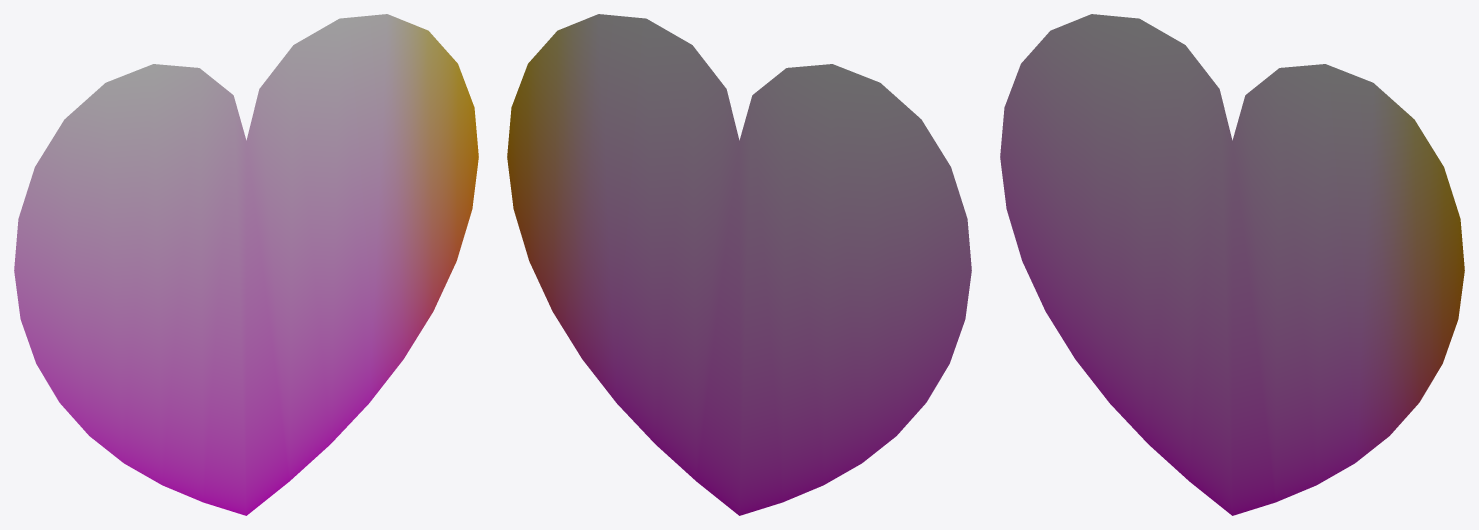
File: Heart.fbx
3 views of the same model, side by side, from view 1: azimuth 30°, elevation 25°; view 2: azimuth 150°, elevation 25°; view 3: azimuth 330°, elevation 25° (orthographic).
Parts seen in each view (by area): view 1: Heart; view 2: Heart; view 3: Heart.
Part boxes in pixels (<box>): Heart: <box>14,14,478,515</box>; Heart: <box>507,14,971,515</box>; Heart: <box>1000,14,1464,515</box>.
Bounding box in the file's own units: 0.8641 × 0.8434 × 0.
